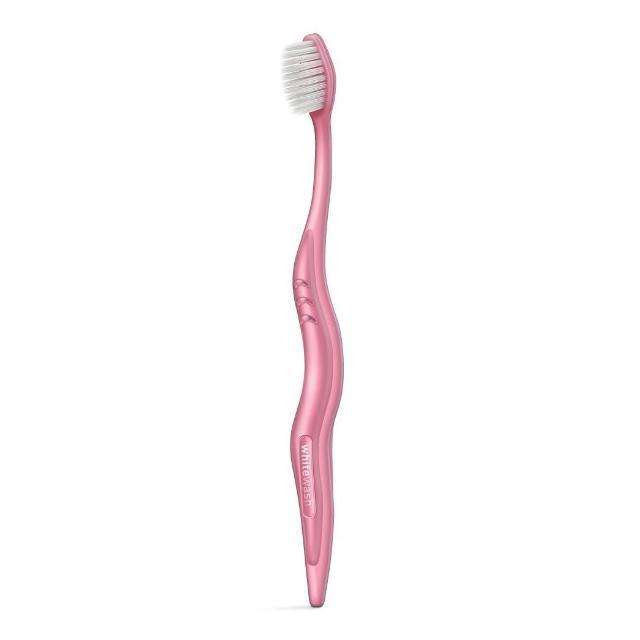toothbrush: (244, 12, 376, 624)
